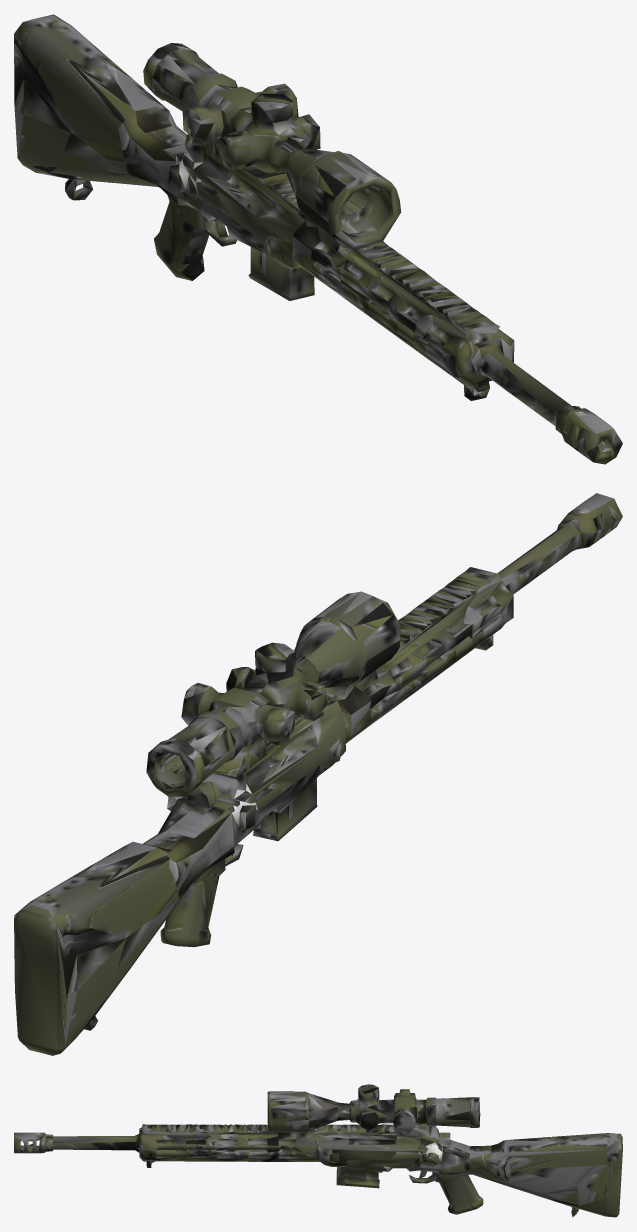
The picture shows the model from 3 angles, top to bottom: view 1: azimuth 30°, elevation 25°; view 2: azimuth 150°, elevation 25°; view 3: azimuth 270°, elevation 25°; orthographic projection. The views are drawn at different scales.
Visible parts, largest first — view 1: Body, Magazine; view 2: Body, Magazine; view 3: Body, Magazine.
Part boxes in pixels (x1,y1,x2,y2): Body: (14,14,622,464); Magazine: (227,227,314,300); Body: (14,493,622,1055); Magazine: (253,765,332,841); Body: (14,1084,622,1217); Magazine: (326,1165,388,1188).
Size of the model in its own units: 0.1688 by 0.3939 by 1.69.
